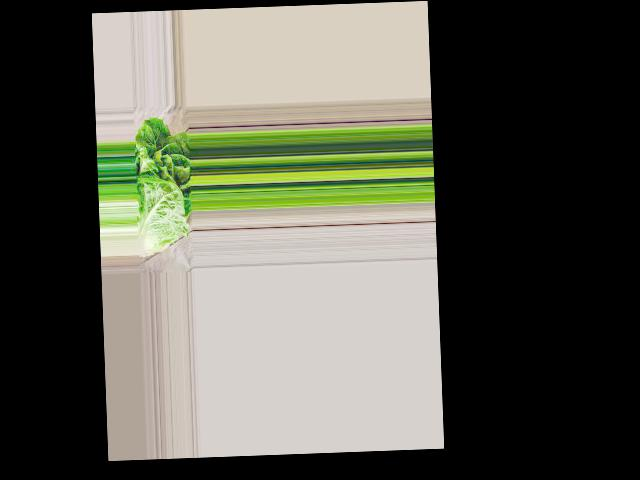lettuce: (134, 124, 194, 252)
